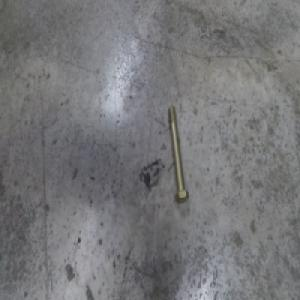Bolt: (166, 105, 189, 202)
